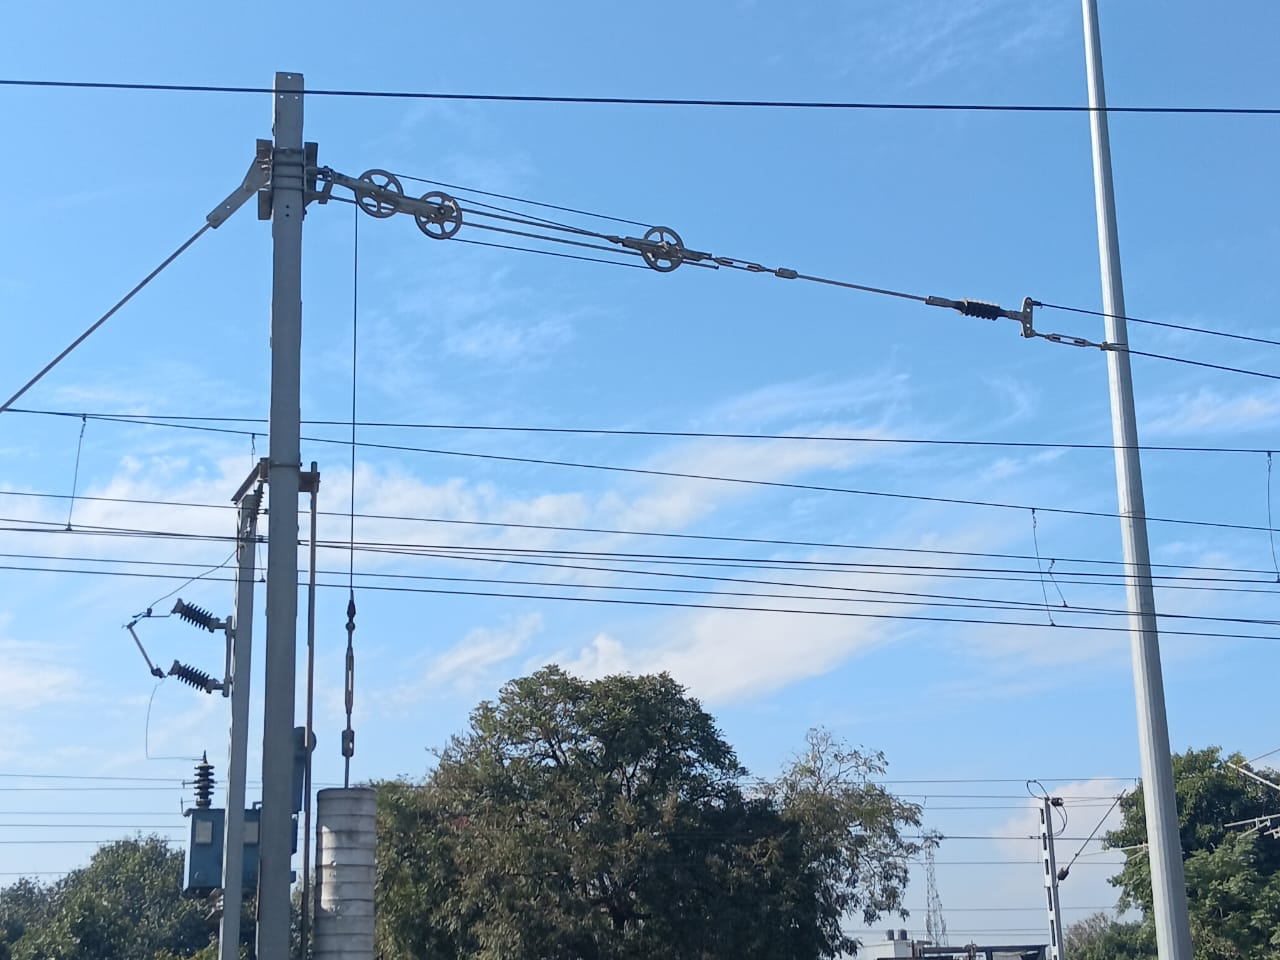Pulley: (636, 221, 689, 274), (356, 162, 405, 220), (416, 184, 465, 241)
objectA: (1073, 4, 1116, 946), (314, 782, 411, 960), (930, 279, 1009, 333), (153, 653, 220, 706), (182, 759, 225, 812), (166, 604, 231, 635)
pole: (265, 71, 310, 936)
